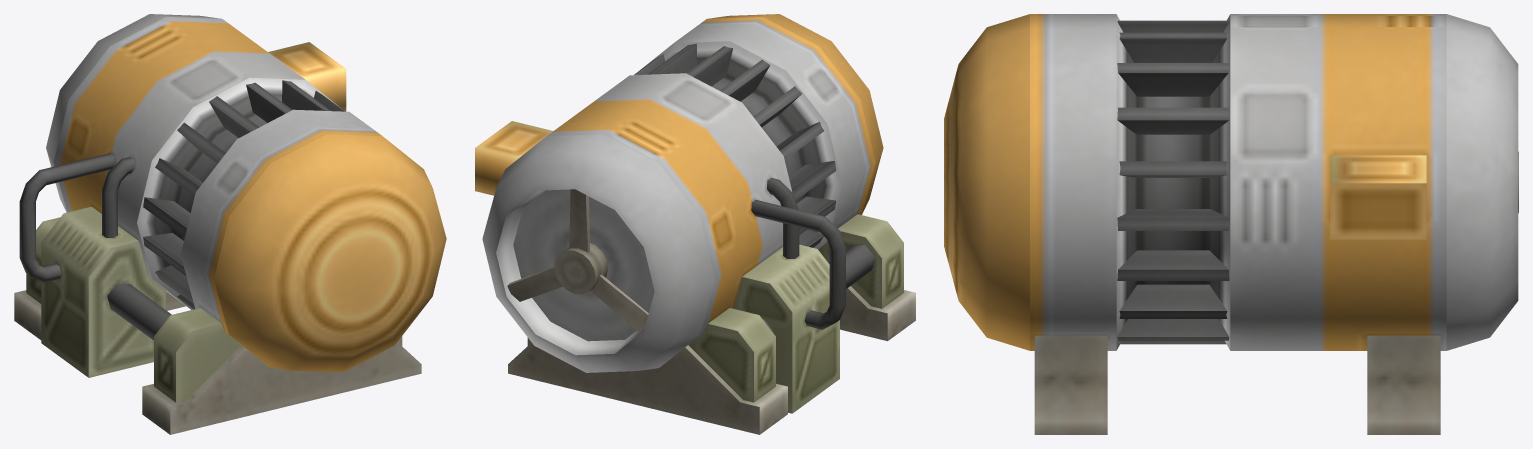
File: Turbine.FBX
3 renders of one model, left to right at view 1: azimuth 30°, elevation 25°; view 2: azimuth 150°, elevation 25°; view 3: azimuth 270°, elevation 25°, orthographic. The views are drawn at different scales.
Parts seen in each view (by area): view 1: Turbine; view 2: Turbine, Turbine_Fan; view 3: Turbine.
Boxes of the visible parts, <box> form: Turbine: <box>14,14,446,434</box>; Turbine: <box>475,14,915,434</box>; Turbine_Fan: <box>507,189,648,332</box>; Turbine: <box>944,14,1518,434</box>.
Bounding box in the file's own units: 583 × 449 × 680.
